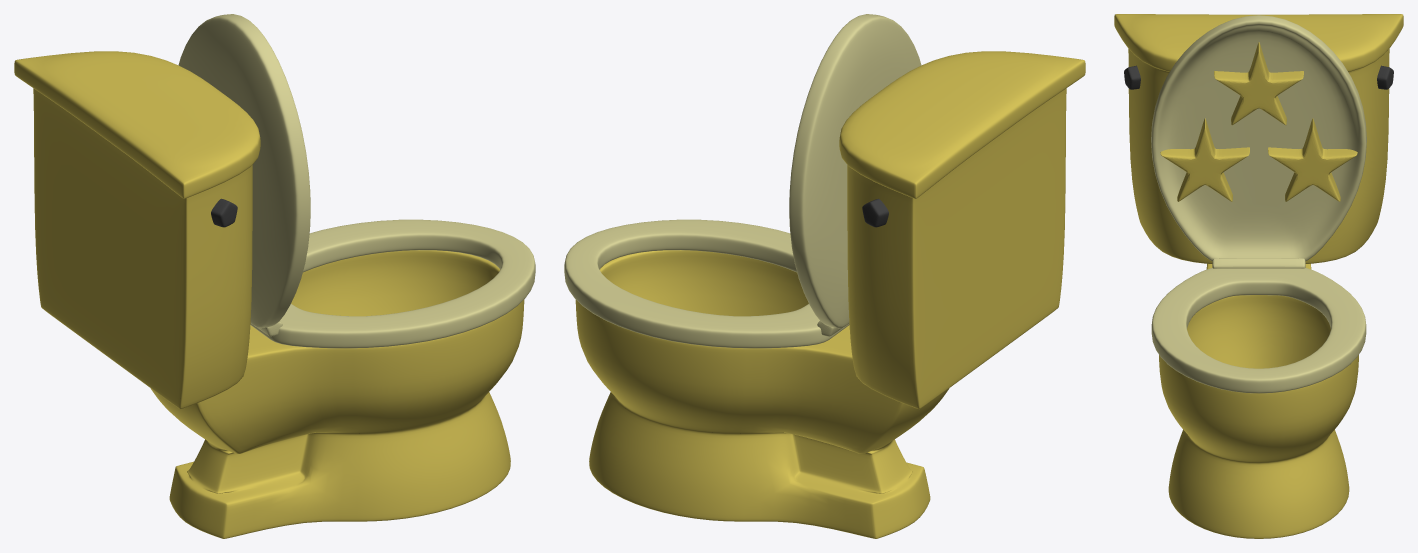
File: Privada.fbx
3 renders of one model, left to right at view 1: azimuth 30°, elevation 25°; view 2: azimuth 150°, elevation 25°; view 3: azimuth 270°, elevation 25°, orthographic. The views are drawn at different scales.
Parts seen in each view (by area): view 1: Vaso; view 2: Vaso; view 3: Vaso.
Boxes of the visible parts, box(x1,y1,x2,y2) form: Vaso: box(14, 14, 535, 538); Vaso: box(564, 14, 1085, 538); Vaso: box(1114, 14, 1403, 538).
Bounding box in the file's own units: 110 × 121 × 76.36.
